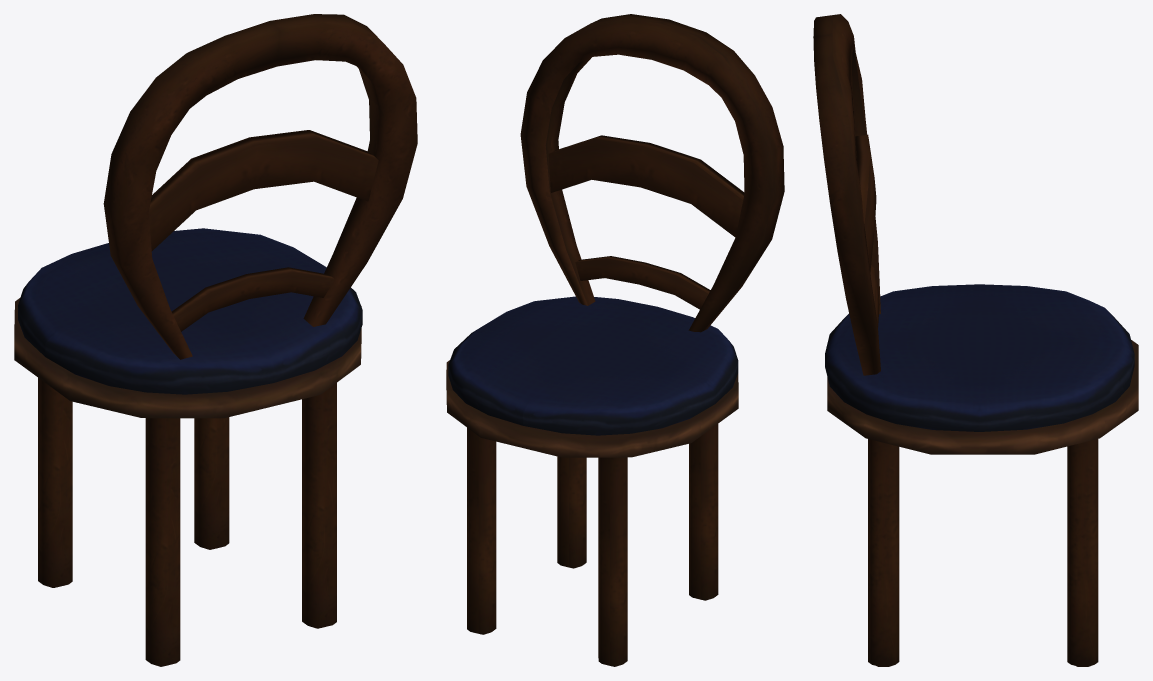
Rendered from Chair_G.fbx.
The picture shows the model from 3 angles, left to right: view 1: azimuth 30°, elevation 25°; view 2: azimuth 150°, elevation 25°; view 3: azimuth 270°, elevation 25°; orthographic projection. The views are drawn at different scales.
Visible parts, largest first — view 1: Chair_Backing_B, Chair_Cushion_Base_B, Chair_Legs_B, Chair_Base_B; view 2: Chair_Backing_B, Chair_Cushion_Base_B, Chair_Legs_B, Chair_Base_B; view 3: Chair_Cushion_Base_B, Chair_Backing_B, Chair_Legs_B, Chair_Base_B.
Part boxes in pixels (x1,y1,x2,y2): Chair_Backing_B: [103, 14, 417, 359]; Chair_Cushion_Base_B: [18, 228, 362, 394]; Chair_Legs_B: [38, 377, 336, 666]; Chair_Base_B: [14, 297, 361, 418]; Chair_Backing_B: [520, 14, 784, 332]; Chair_Cushion_Base_B: [448, 296, 738, 435]; Chair_Legs_B: [467, 424, 718, 666]; Chair_Base_B: [446, 360, 738, 457]; Chair_Cushion_Base_B: [825, 284, 1134, 431]; Chair_Backing_B: [813, 14, 880, 375]; Chair_Legs_B: [868, 439, 1098, 666]; Chair_Base_B: [827, 340, 1138, 454].
Size of the model in its own units: 5.84 by 11.93 by 5.9.
